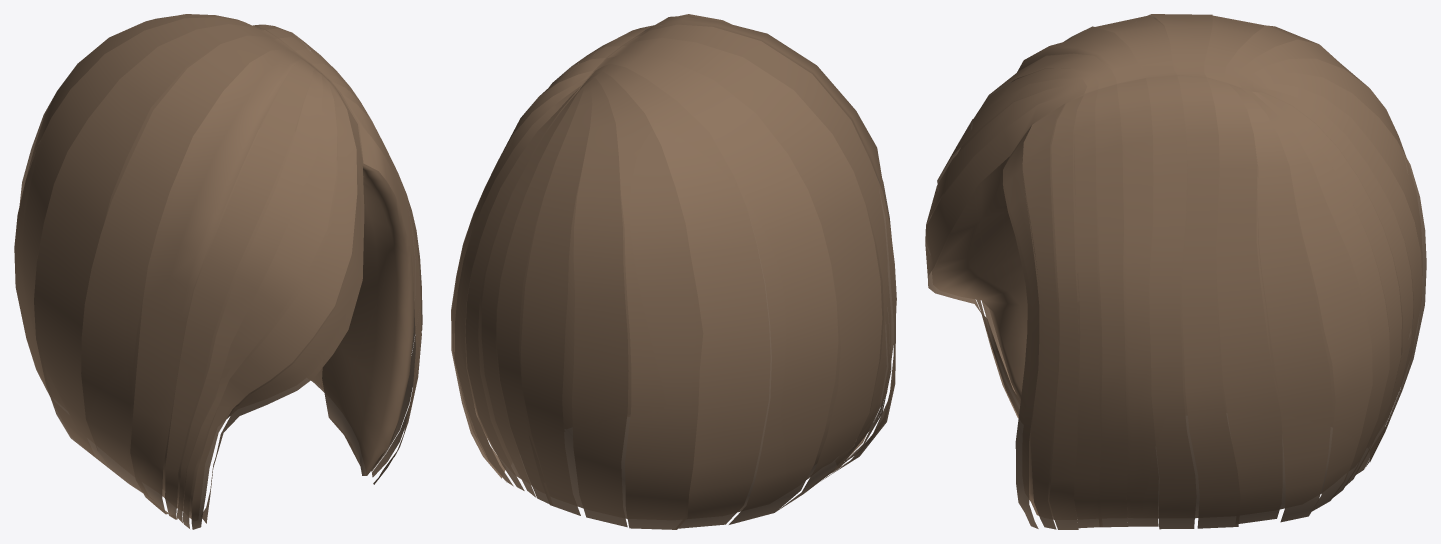
The model's file is bob02.glb.
3 views of the same model, side by side, from view 1: azimuth 30°, elevation 25°; view 2: azimuth 150°, elevation 25°; view 3: azimuth 270°, elevation 25° (orthographic). The views are drawn at different scales.
Visible parts, largest first — view 1: bob02; view 2: bob02; view 3: bob02.
Part boxes in pixels (box(x1,y1,x2,y2)): bob02: box(14, 14, 422, 529); bob02: box(451, 14, 896, 529); bob02: box(925, 14, 1426, 529).
Size of the model in its own units: 0.1811 by 0.2171 by 0.2142.
